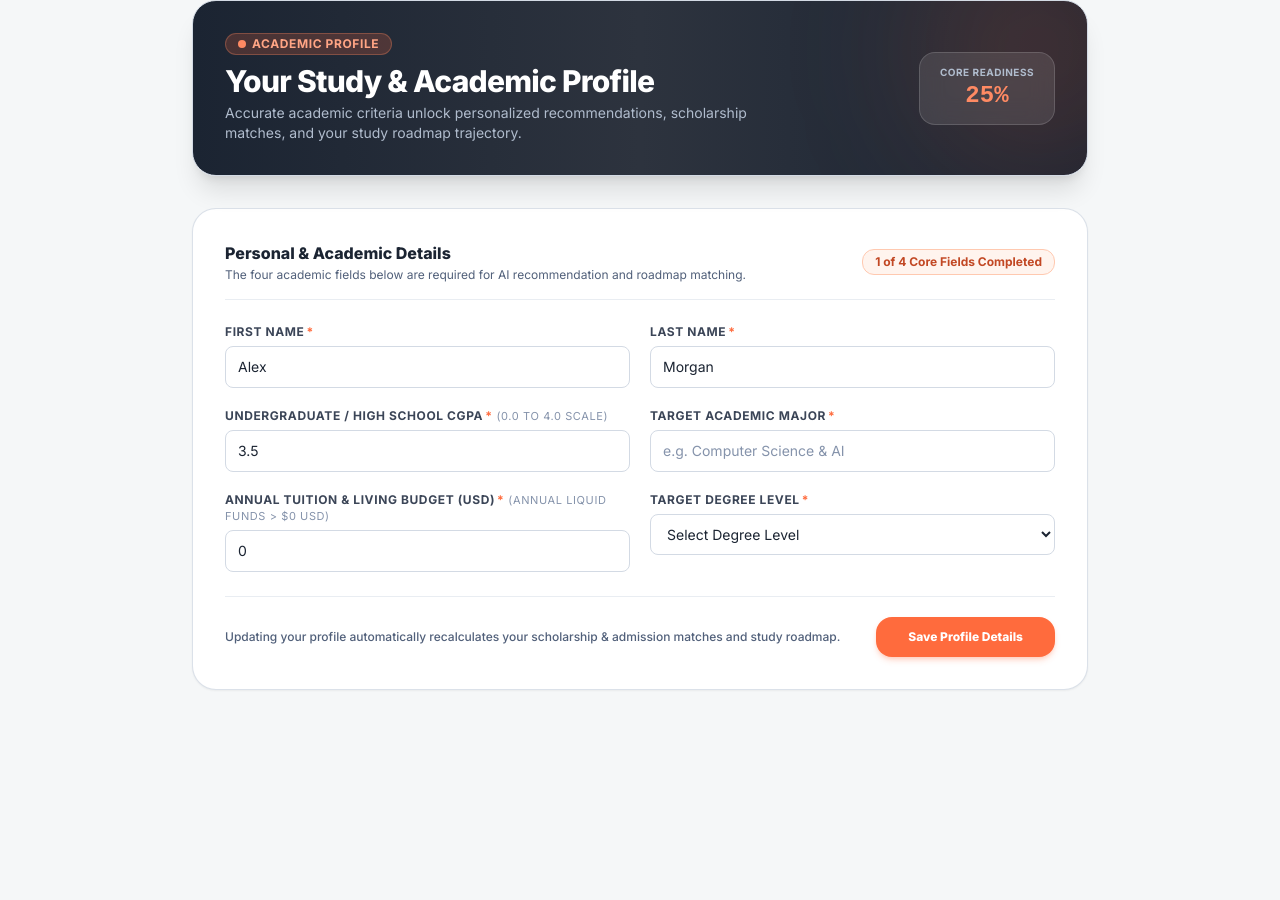
Test: Student Profile Completion Onboarding Flow › saving a complete profile updates completion to 4 of 4 and displays success confirmation
The image size is (1280, 900).
expect the field with test id "input-firstName" holds "Alex": met, box [225, 346, 630, 388]
// Fill valid values
Replace the text in the number field with test id "input-cgpa" with "3.85" at {"x": 428, "y": 451}, box [225, 430, 630, 472]
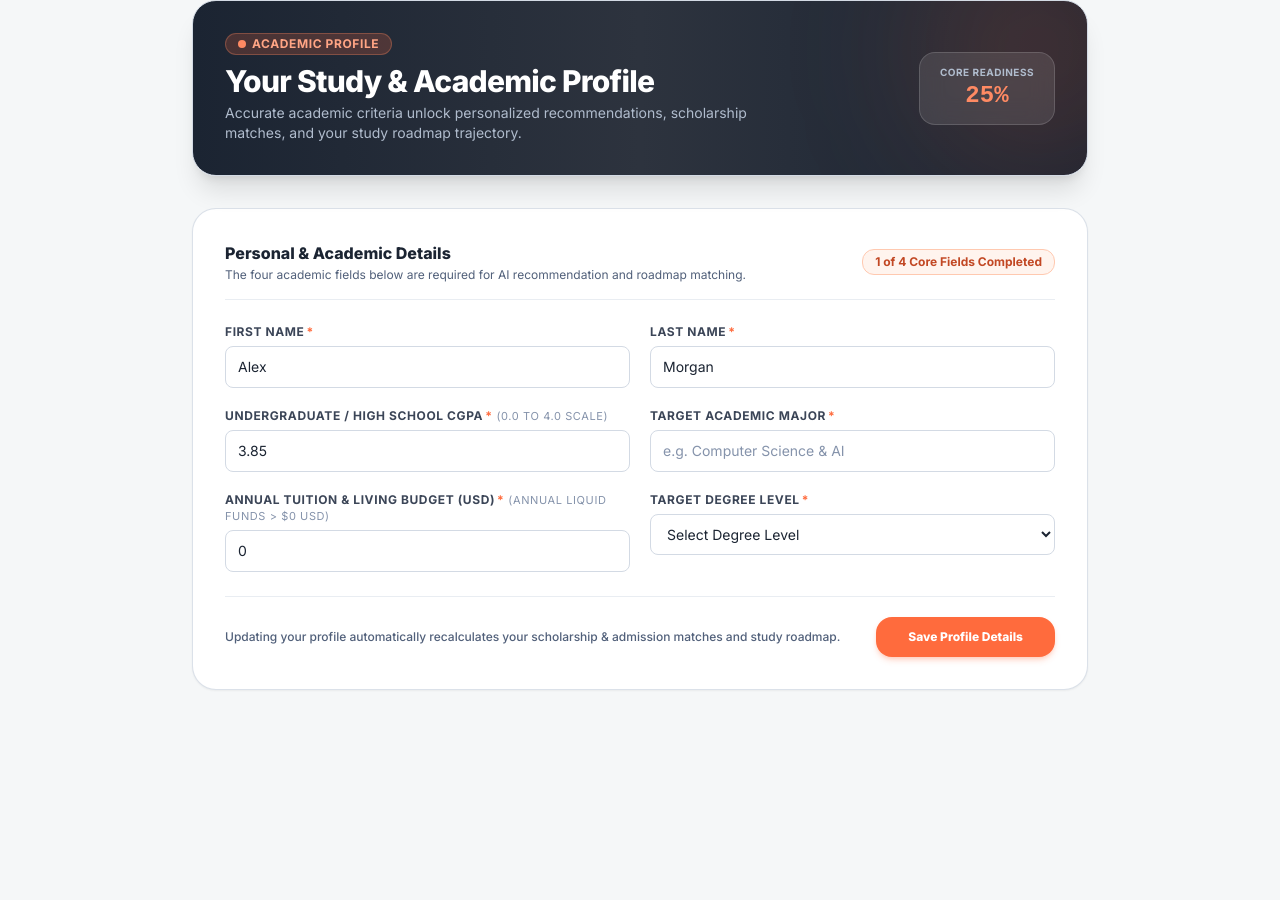
Type "Computer Science & AI" into the field with test id "input-major".
click(852, 451); type("Computer Science & AI")  # box [650, 430, 1055, 472]
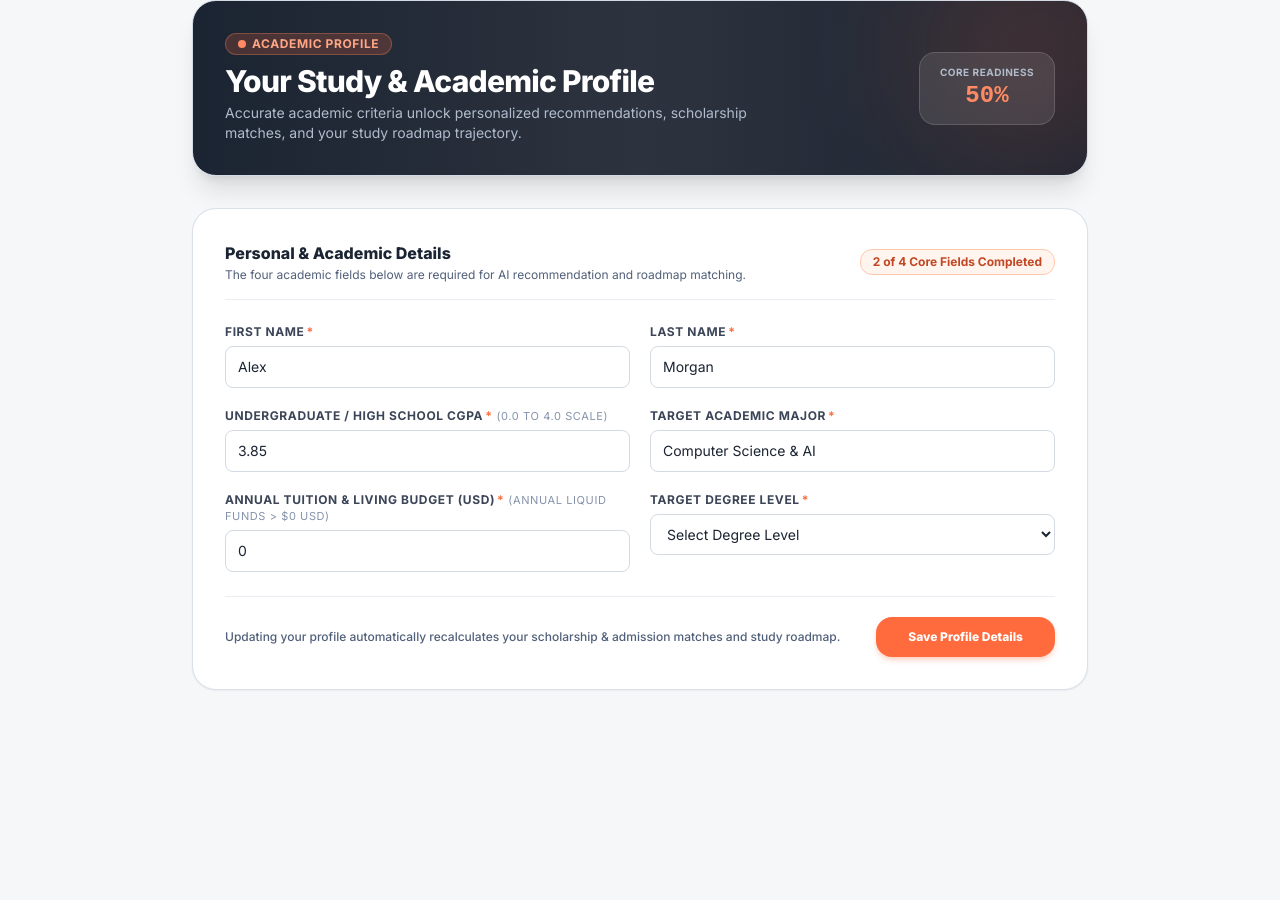
Replace the text in the number field with test id "input-budgetUsd" with "35000" at {"x": 428, "y": 551}, box [225, 530, 630, 572]
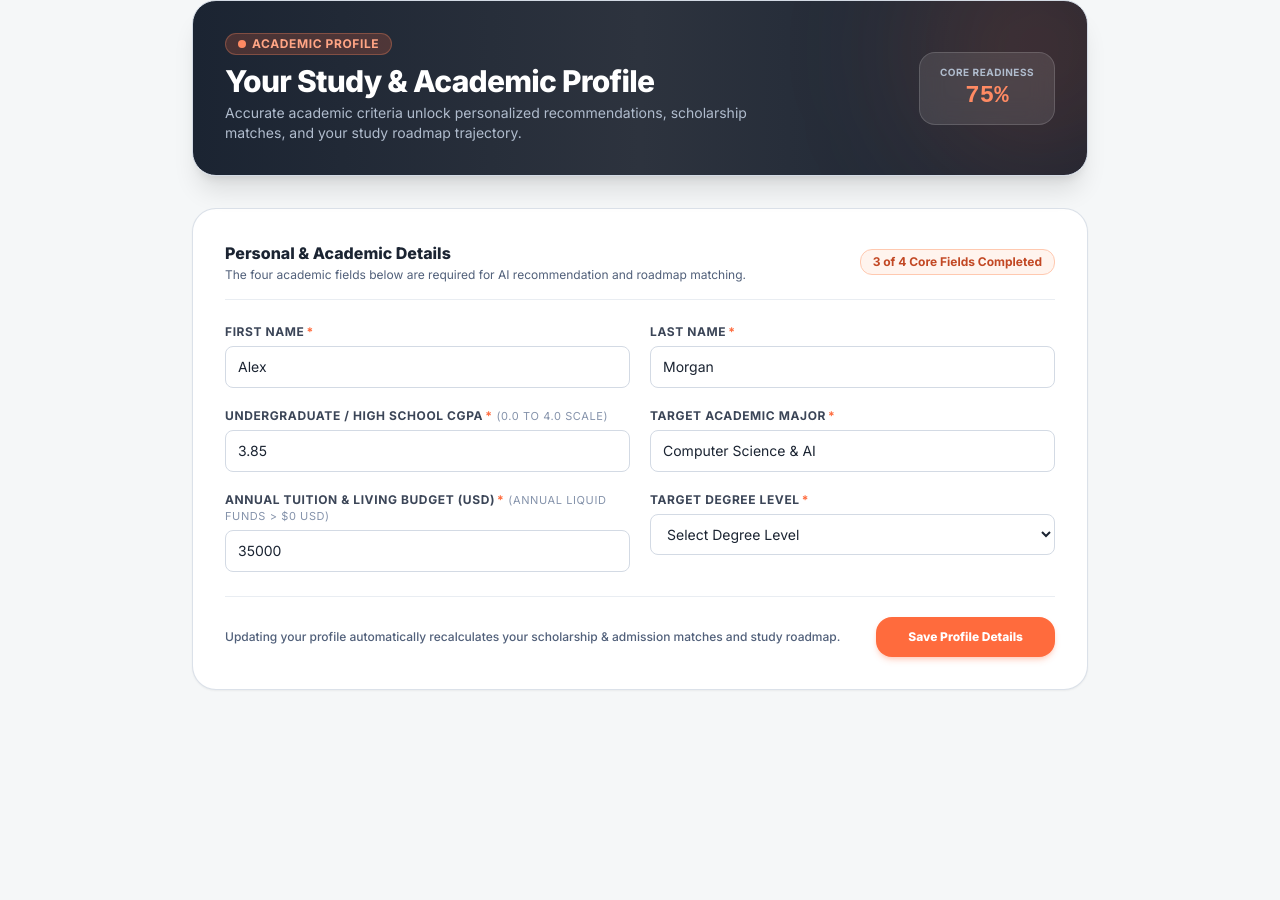
Select "Master's" in the dropdown with test id "select-degreeLevel" at {"x": 852, "y": 534}, box [650, 514, 1055, 555]
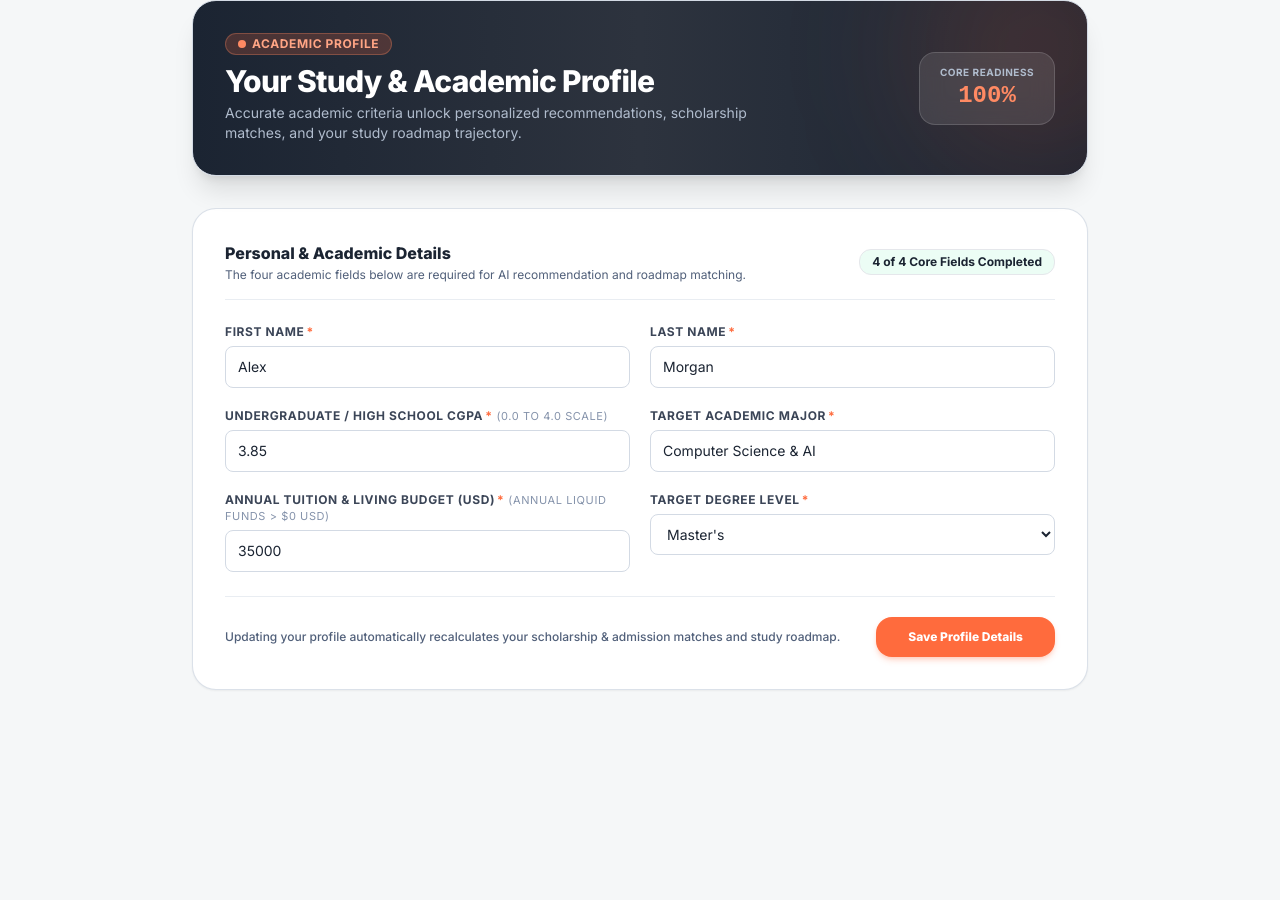
Click the button with test id "save-profile-btn".
click(966, 637)  # box [876, 617, 1055, 657]
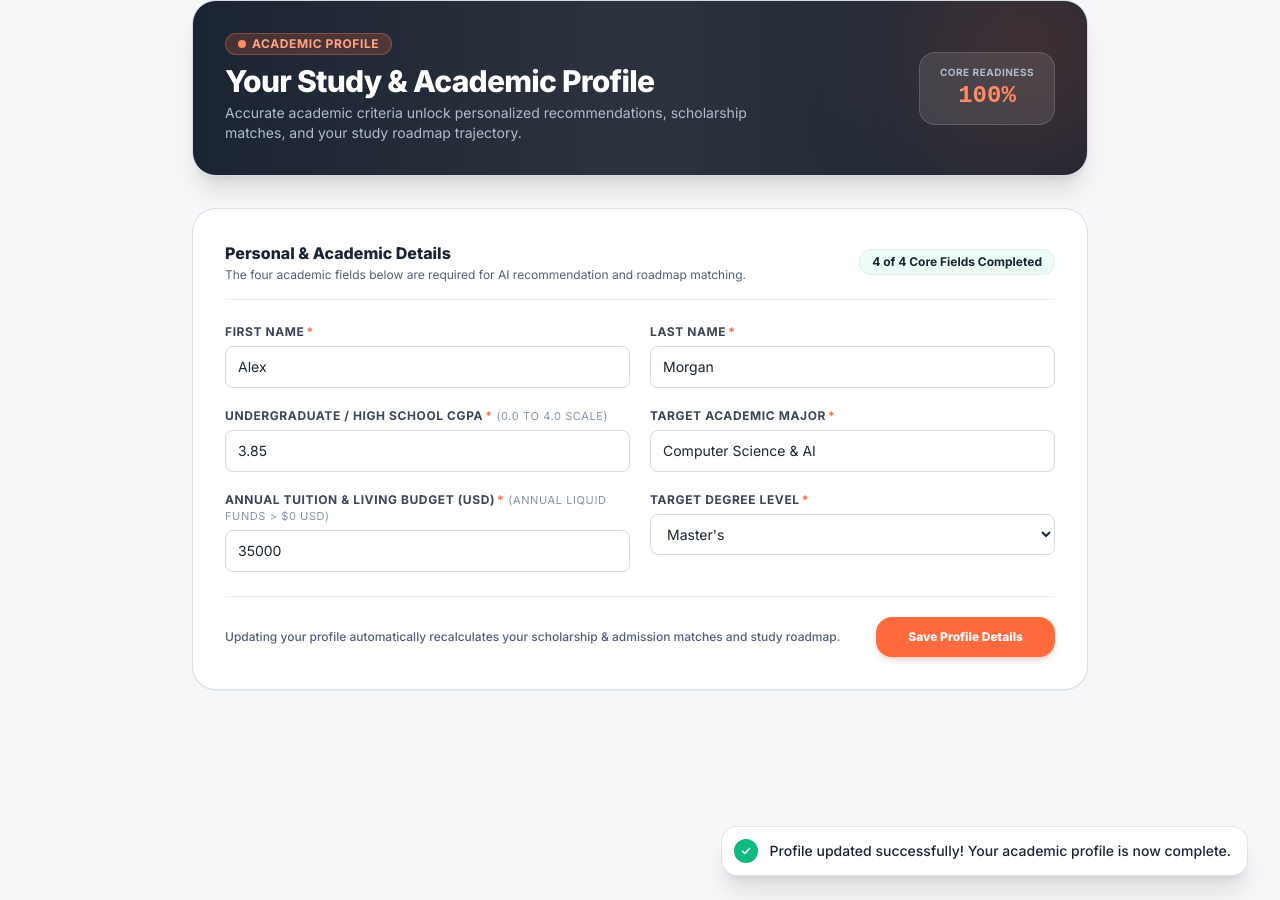
expect the text with test id "profile-core-fields-badge" reads "4 of 4 Core Fields Completed": met, box [859, 249, 1055, 275]
expect the text "Profile updated successfully! Your academic profile is now complete" is shown: met, box [770, 842, 1231, 859]
